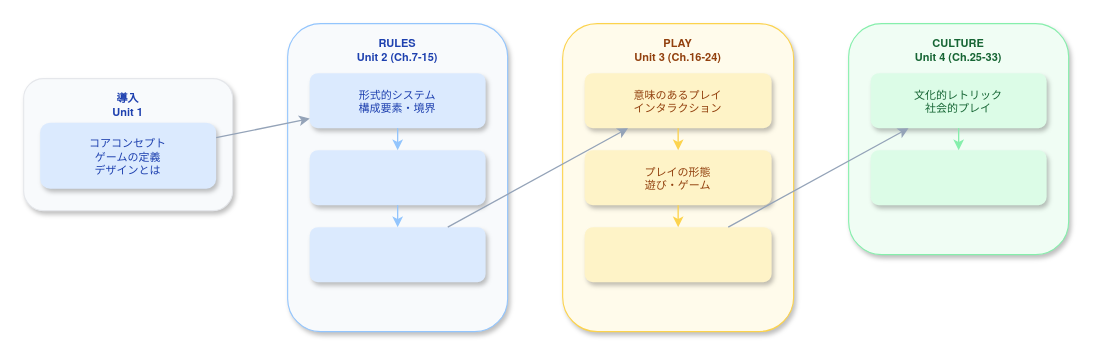
Image size: 1095x359. Some labels were removed from this diagram. Each missing label, with the centre of its shape:
オープンカルチャー Mod・UGC: (x=959, y=178)
デジタルゲーム システム動態: (x=398, y=255)
数学的構造 確率・ゲーム木: (x=398, y=178)
物語・シミュレーション 体験のデザイン: (x=679, y=255)
